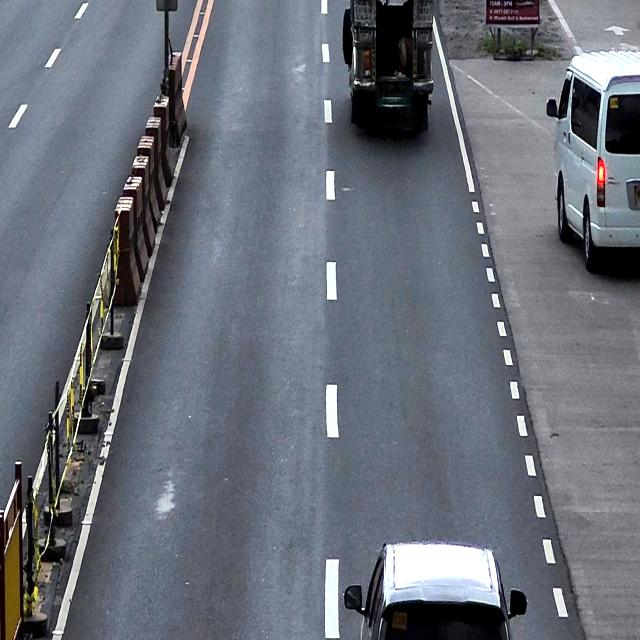Car: (546, 48, 640, 268), (343, 540, 527, 639)
Jeep: (341, 0, 434, 133)
License-Plate: (634, 184, 640, 206)
